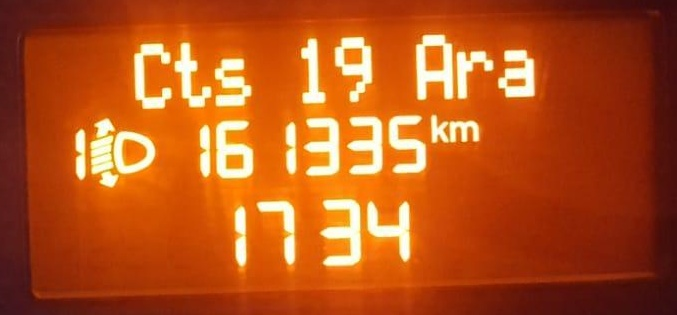1: (296, 30, 326, 108), (230, 198, 252, 277), (70, 119, 88, 184), (194, 118, 211, 178), (283, 116, 299, 179)
3: (320, 193, 361, 267), (347, 111, 382, 175), (304, 114, 340, 176)
4: (367, 196, 411, 261)
5: (385, 112, 427, 175)
6: (214, 117, 253, 180)
7: (254, 198, 299, 268)
9: (333, 28, 377, 104)
X: (128, 39, 171, 110), (172, 38, 212, 113), (414, 30, 453, 102), (496, 43, 541, 101), (213, 53, 255, 108), (455, 46, 494, 99), (448, 118, 477, 144), (429, 112, 446, 144)
